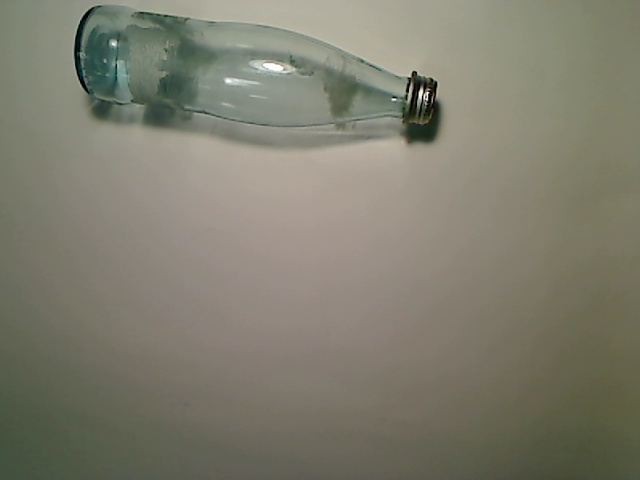bottle: (74, 4, 437, 129)
